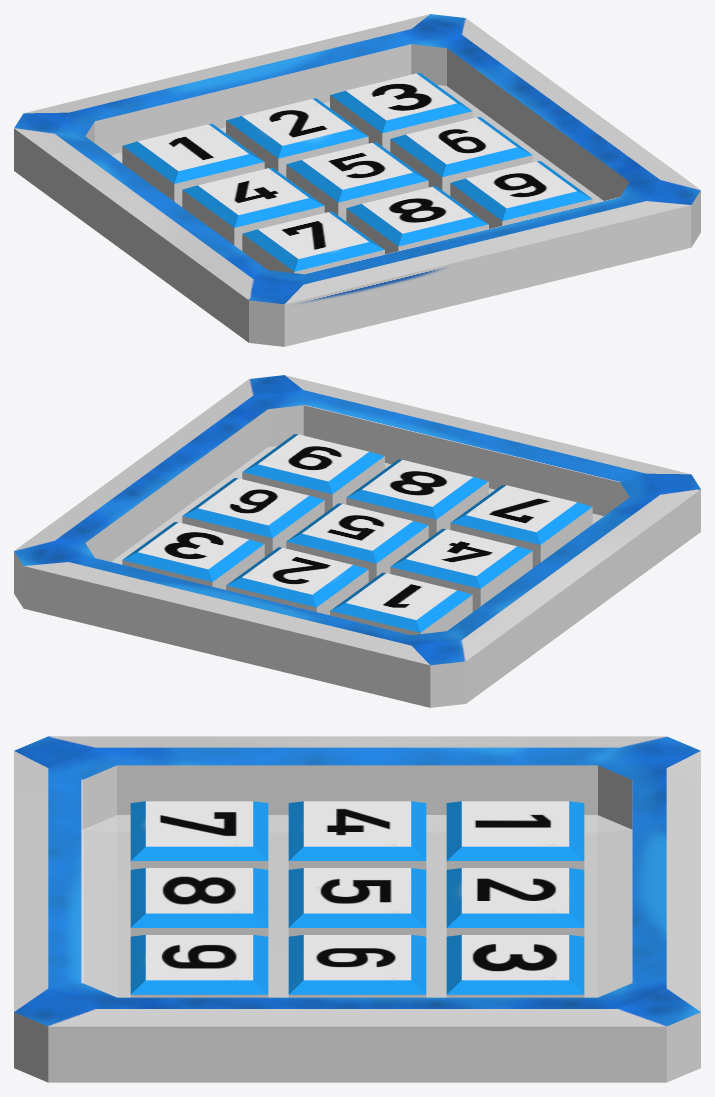
The model's file is Password_Pannel.fbx.
3 views of the same model, one above another, from view 1: azimuth 30°, elevation 25°; view 2: azimuth 150°, elevation 25°; view 3: azimuth 270°, elevation 25° (orthographic). The views are drawn at different scales.
Parts seen in each view (by area): view 1: base, button.003, button.006, button.008, button.005, button.004, button.007, button, button.001, button.002; view 2: base, button.003, button, button.002, button.005, button.004, button.001, button.006, button.007, button.008; view 3: base, button, button.001, button.003, button.004, button.006, button.007, button.002, button.005, button.008.
Part boxes in pixels (x1=…): base: x1=14, y1=14, x2=700, y2=346; button.003: x1=182, y1=167, x2=324, y2=250; button.006: x1=122, y1=123, x2=264, y2=206; button.008: x1=330, y1=73, x2=472, y2=151; button.005: x1=390, y1=117, x2=532, y2=195; button.004: x1=286, y1=142, x2=428, y2=221; button.007: x1=226, y1=98, x2=368, y2=177; button: x1=242, y1=211, x2=384, y2=274; button.001: x1=346, y1=186, x2=488, y2=254; button.002: x1=450, y1=161, x2=592, y2=228; base: x1=14, y1=375, x2=700, y2=707; button.003: x1=390, y1=528, x2=532, y2=611; button: x1=450, y1=484, x2=592, y2=567; button.002: x1=242, y1=434, x2=384, y2=512; button.005: x1=182, y1=478, x2=324, y2=556; button.004: x1=286, y1=503, x2=428, y2=582; button.001: x1=346, y1=459, x2=488, y2=538; button.006: x1=330, y1=572, x2=472, y2=635; button.007: x1=226, y1=547, x2=368, y2=615; button.008: x1=122, y1=522, x2=264, y2=589; base: x1=14, y1=736, x2=700, y2=1082; button: x1=130, y1=801, x2=268, y2=869; button.001: x1=130, y1=868, x2=268, y2=936; button.003: x1=288, y1=801, x2=426, y2=869; button.004: x1=288, y1=868, x2=426, y2=936; button.006: x1=446, y1=801, x2=584, y2=869; button.007: x1=446, y1=868, x2=584, y2=936; button.002: x1=130, y1=935, x2=268, y2=997; button.005: x1=288, y1=935, x2=426, y2=997; button.008: x1=446, y1=935, x2=584, y2=997.
Bounding box in the file's own units: 100 × 14 × 100.
10 materials, 10 textured.
